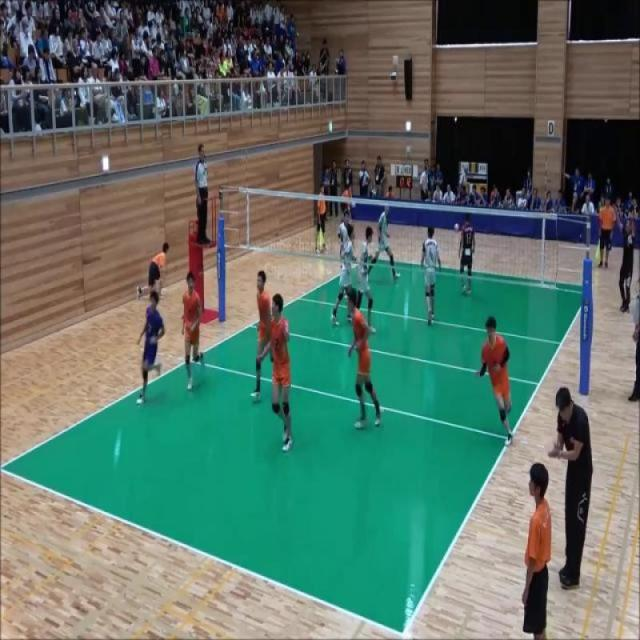volleyball: (453, 223, 460, 233), (351, 202, 356, 209)
